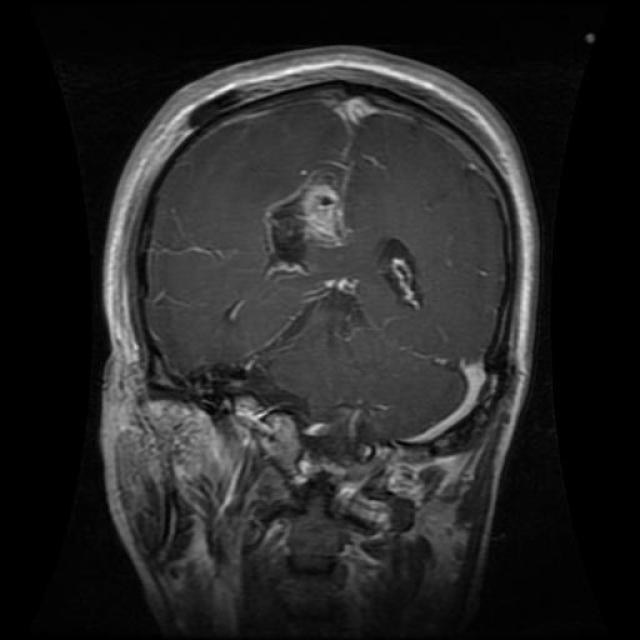glioma: (258, 168, 362, 278)
